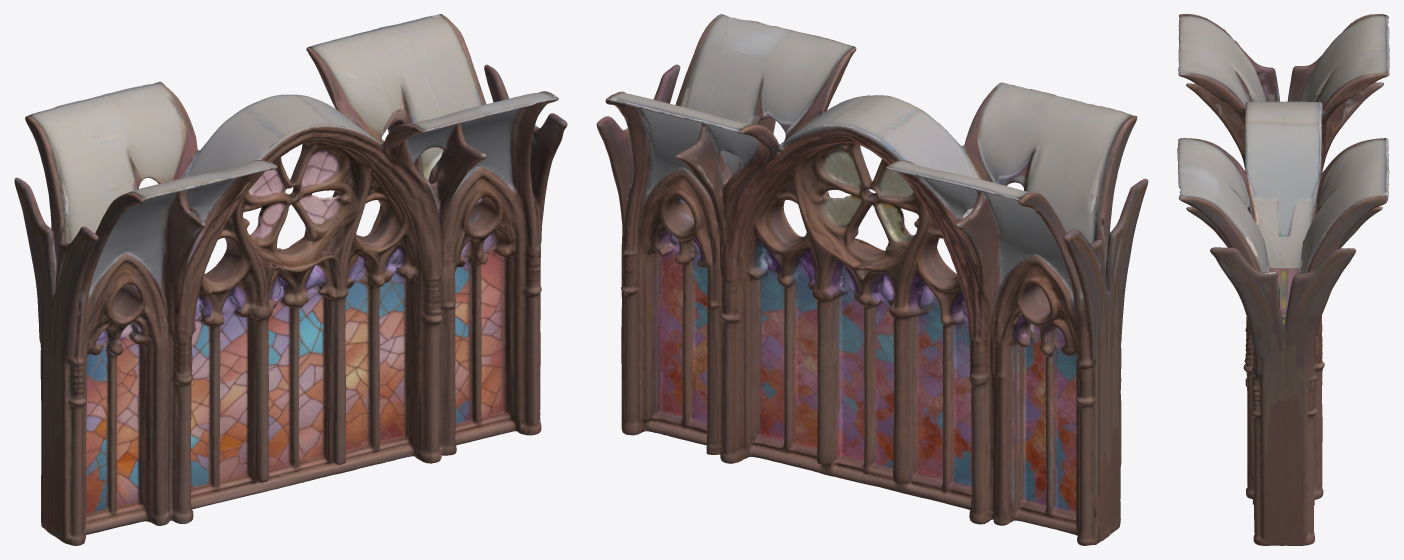
The picture shows the model from 3 angles, left to right: view 1: azimuth 30°, elevation 25°; view 2: azimuth 150°, elevation 25°; view 3: azimuth 270°, elevation 25°; orthographic projection. The views are drawn at different scales.
Visible parts, largest first — view 1: Mesh_0; view 2: Mesh_0; view 3: Mesh_0.
Boxes of the visible parts, box(x1,y1,x2,y2) form: Mesh_0: box(14, 14, 567, 545); Mesh_0: box(596, 14, 1148, 545); Mesh_0: box(1177, 14, 1389, 545).
Size of the model in its own units: 201 by 150 by 85.98.
1 material, 1 textured.
